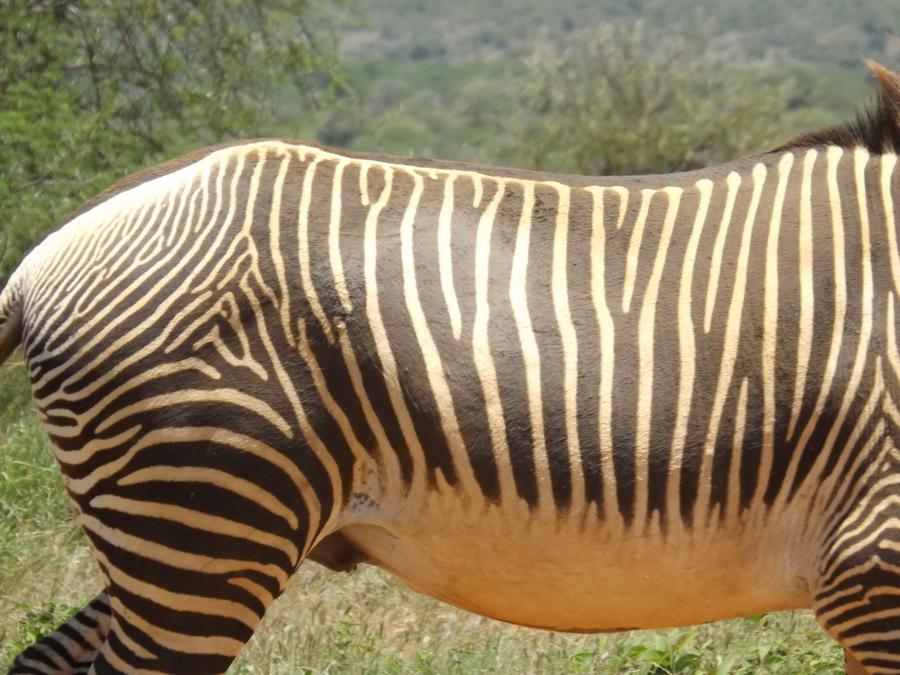zebra_grevys: (2, 90, 898, 597)
